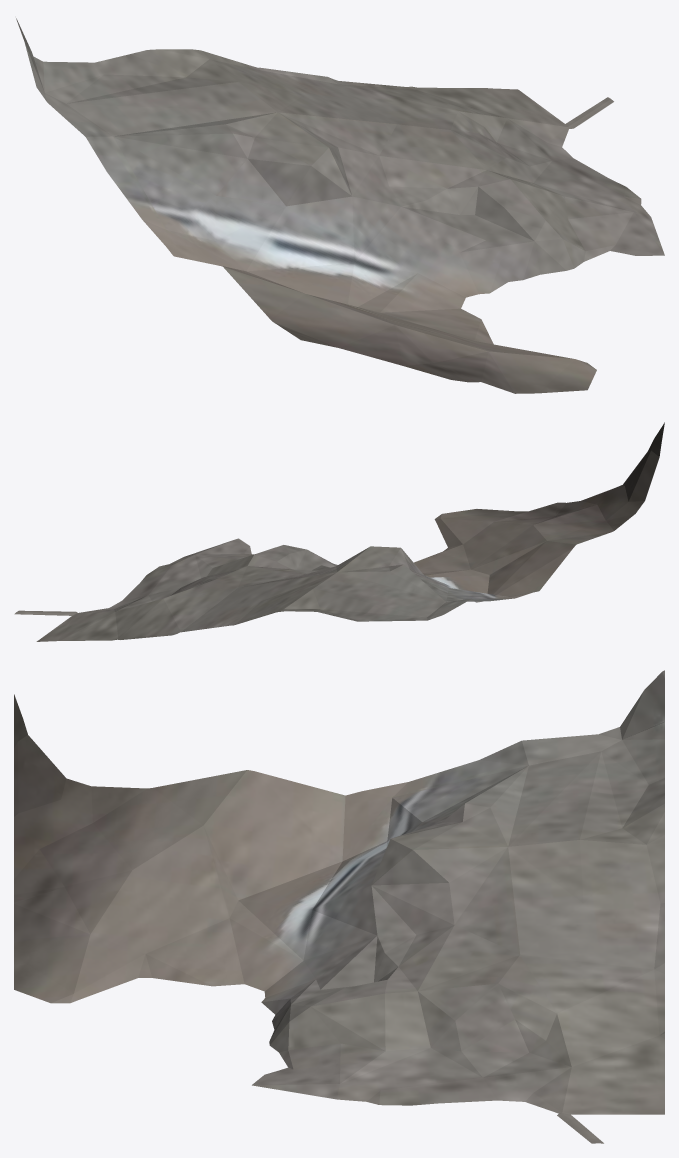
3 renders of one model, top to bottom at view 1: azimuth 30°, elevation 25°; view 2: azimuth 150°, elevation 25°; view 3: azimuth 270°, elevation 25°, orthographic. The views are drawn at different scales.
Size of the model in its own units: 1.67 by 0.5632 by 1.67.
2 materials, 2 textured.
